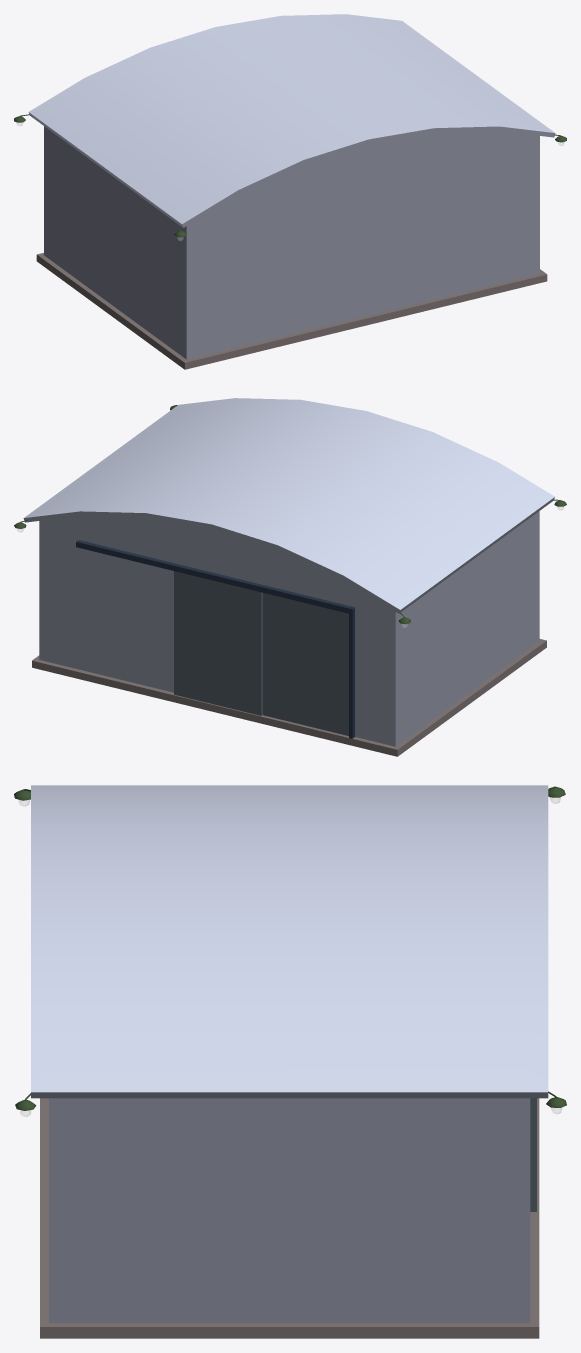
Rendered from galpon.FBX.
The picture shows the model from 3 angles, top to bottom: view 1: azimuth 30°, elevation 25°; view 2: azimuth 150°, elevation 25°; view 3: azimuth 270°, elevation 25°; orthographic projection. The views are drawn at different scales.
Parts seen in each view (by area): view 1: galpon; view 2: galpon; view 3: galpon.
Boxes of the visible parts, x1,y1,x2,y2 form: galpon: (14, 14, 566, 369); galpon: (14, 398, 566, 756); galpon: (14, 785, 566, 1338).
Bounding box in the file's own units: 112 × 50.89 × 80.43.
